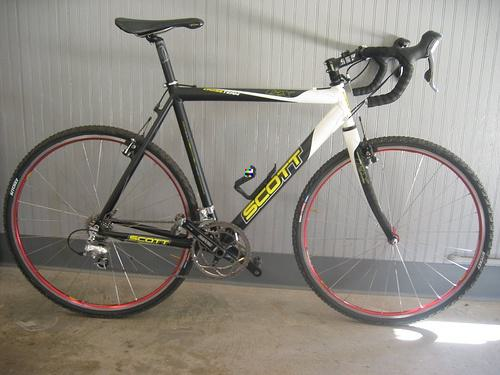car: (4, 17, 494, 329)
